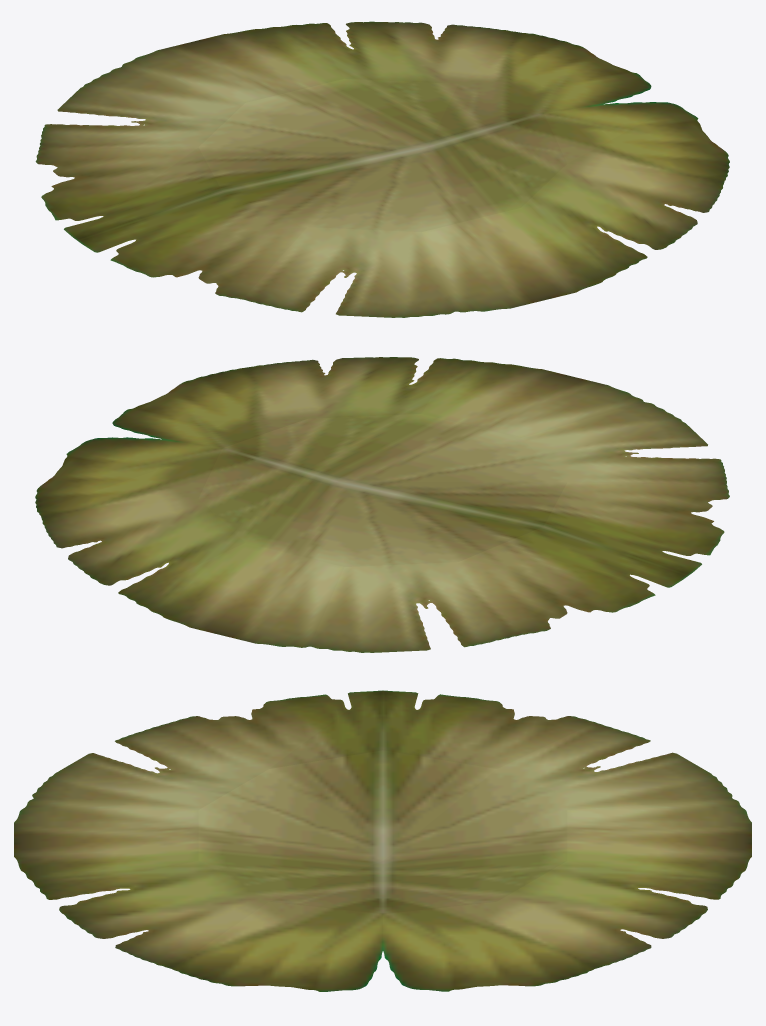
The model's file is leafboatrotten.dae.
3 renders of one model, top to bottom at view 1: azimuth 30°, elevation 25°; view 2: azimuth 150°, elevation 25°; view 3: azimuth 270°, elevation 25°, orthographic. The views are drawn at different scales.
Visible parts, largest first — view 1: m0; view 2: m0; view 3: m0.
Part boxes in pixels (x1=…): m0: x1=35, y1=21, x2=729, y2=317; m0: x1=35, y1=357, x2=729, y2=652; m0: x1=14, y1=690, x2=751, y2=991.
Bounding box in the file's own units: 529 × 11.83 × 503.
Materials: 1 (1 with a texture image).
